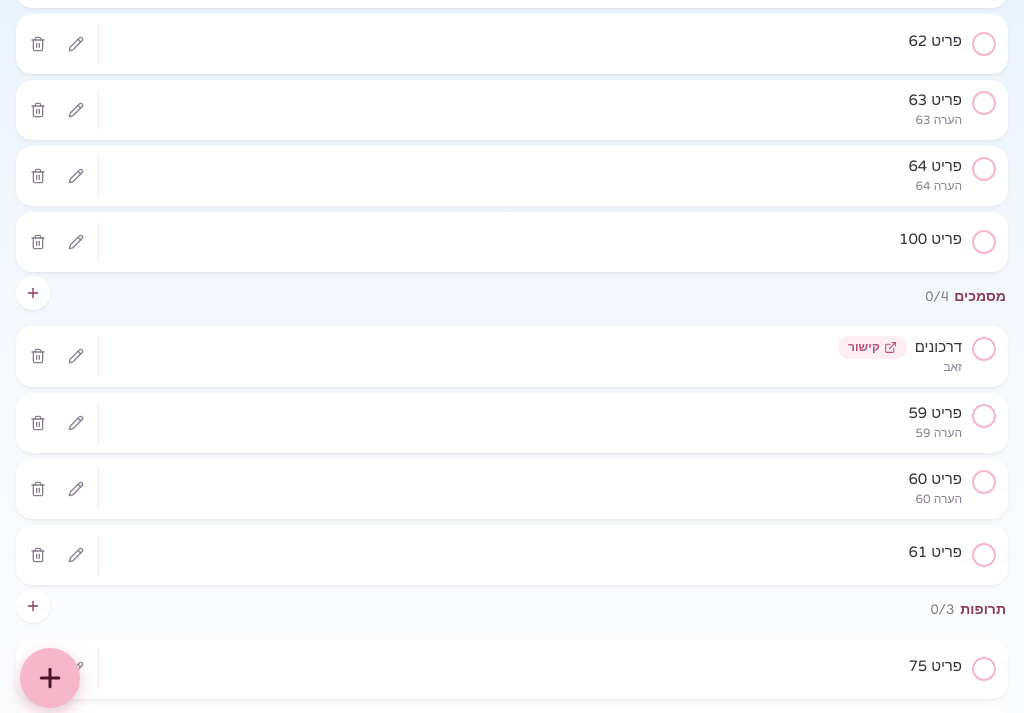
Test: an item card › opens a link pasted in the note from its pill, and the edit moves it to the link box
The image size is (1024, 713).
Later steps or results of the test are not shown.
(page scrolled)
Click the button named "עריכת דרכונים".
click(76, 356)  # box [58,336,94,376]
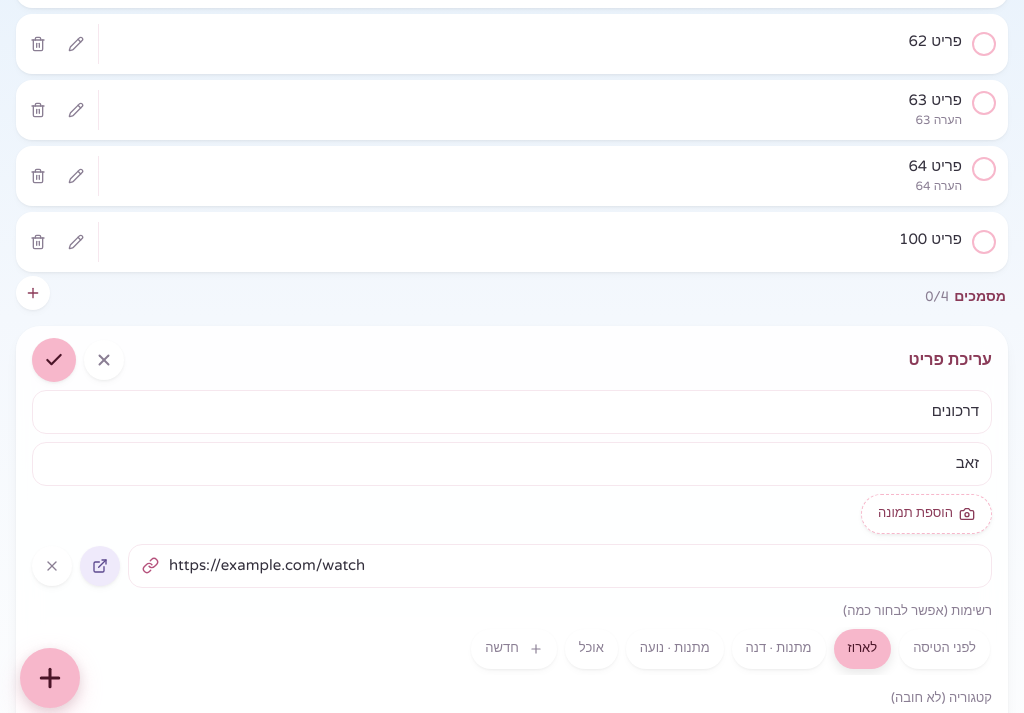
Now the field named "הערה (לא חובה)" holds "זאב", box [32,442,992,486]
Now the field named "קישור" holds "https://example.com/watch", box [128,544,992,588]
